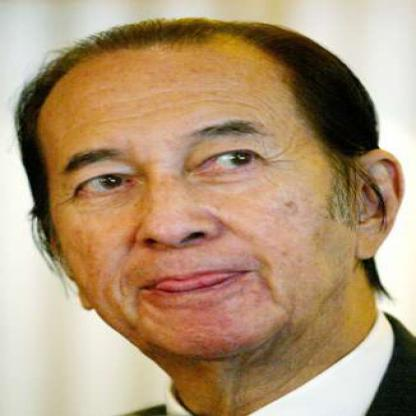face: (20, 24, 360, 363)
